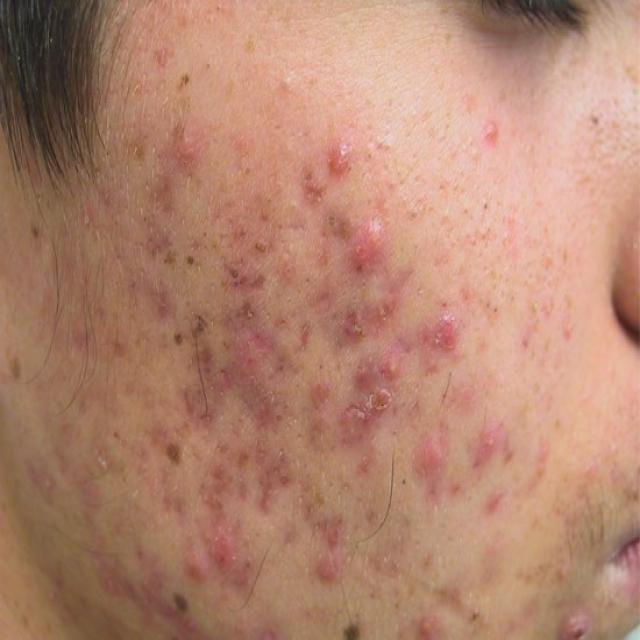acne: (18, 420, 188, 632), (136, 250, 217, 522), (207, 230, 319, 372), (221, 386, 319, 524), (396, 288, 488, 372), (180, 532, 272, 614), (316, 272, 408, 350), (326, 351, 408, 437), (516, 280, 584, 370), (416, 573, 500, 640), (308, 508, 368, 594), (400, 423, 462, 503), (328, 209, 405, 273), (311, 120, 376, 178), (460, 421, 520, 481), (460, 479, 522, 529), (516, 434, 564, 494), (164, 120, 207, 184), (547, 598, 610, 640), (464, 116, 526, 158), (266, 67, 302, 98)
